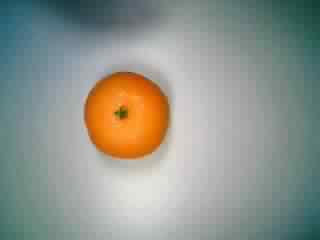orange: (80, 68, 177, 162)
